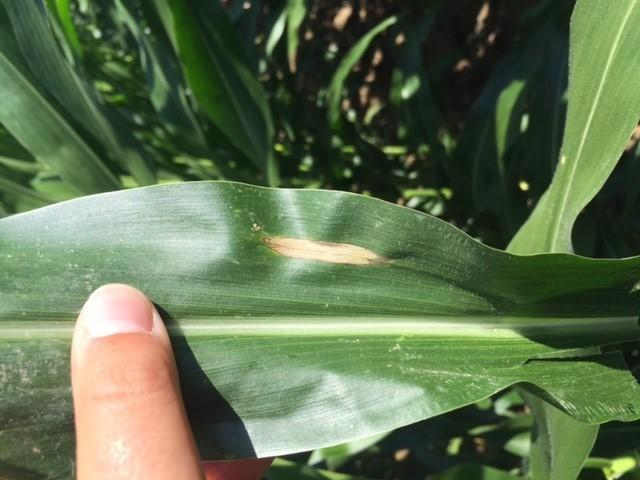Corn_Blight: (235, 203, 411, 286)
